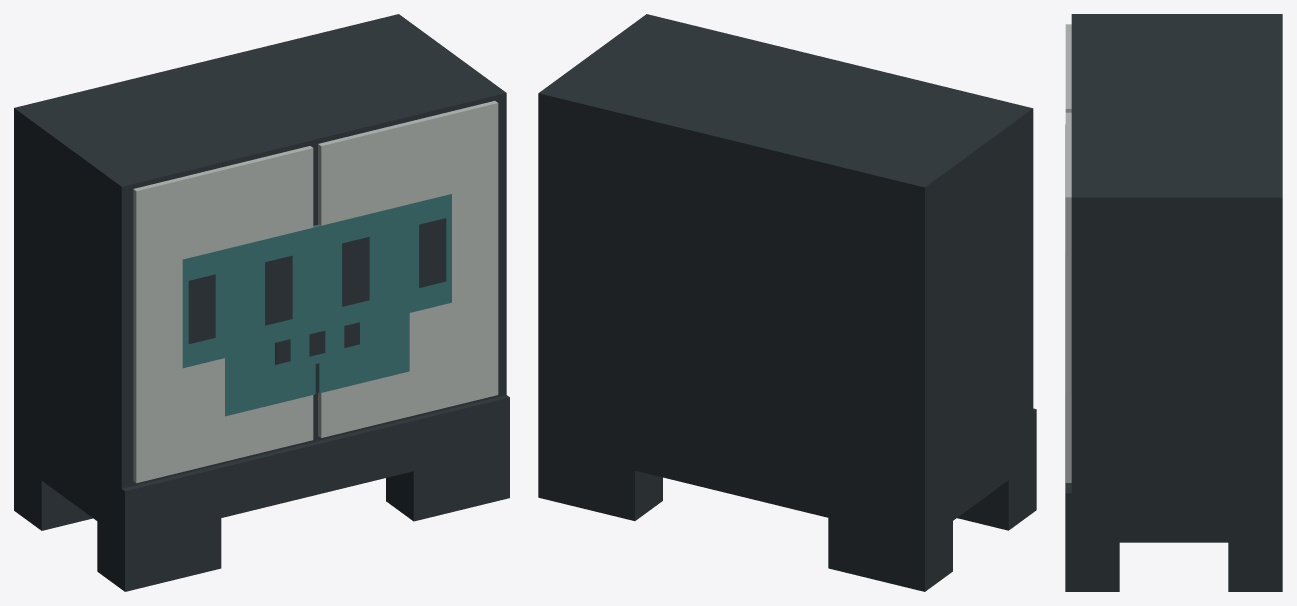
The model's file is distribution-v2.glb.
3 views of the same model, side by side, from view 1: azimuth 30°, elevation 25°; view 2: azimuth 150°, elevation 25°; view 3: azimuth 270°, elevation 25° (orthographic). The views are drawn at different scales.
Visible parts, largest first — view 1: distribution_shell, distribution_frame, distribution_feet, distribution_panel; view 2: distribution_shell, distribution_frame, distribution_feet; view 3: distribution_shell, distribution_frame, distribution_feet.
Part boxes in pixels (bbox=[...]): distribution_shell: bbox=[14, 14, 506, 488]; distribution_frame: bbox=[14, 395, 509, 541]; distribution_feet: bbox=[14, 448, 509, 591]; distribution_panel: bbox=[225, 272, 409, 416]; distribution_shell: bbox=[538, 14, 1033, 490]; distribution_frame: bbox=[538, 396, 1036, 541]; distribution_feet: bbox=[538, 447, 1036, 591]; distribution_shell: bbox=[1065, 14, 1282, 493]; distribution_frame: bbox=[1065, 396, 1282, 542]; distribution_feet: bbox=[1065, 542, 1282, 591].
Bounding box in the file's own units: 2 × 2 × 1.
